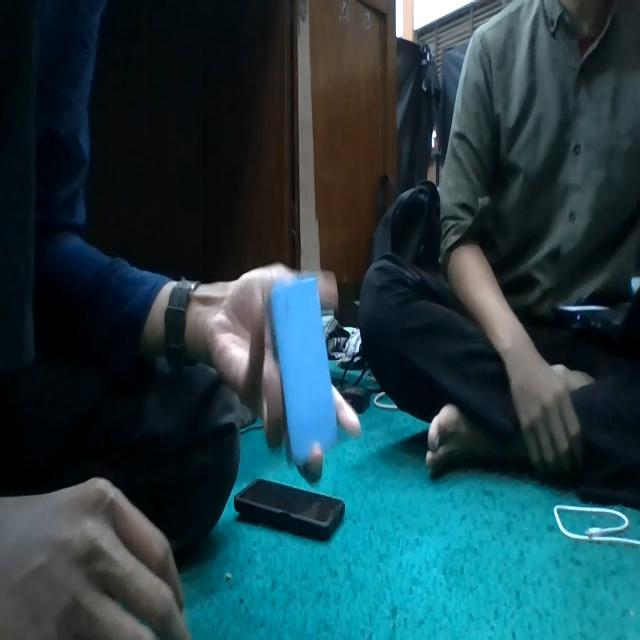Powerbank: (270, 274, 338, 482)
